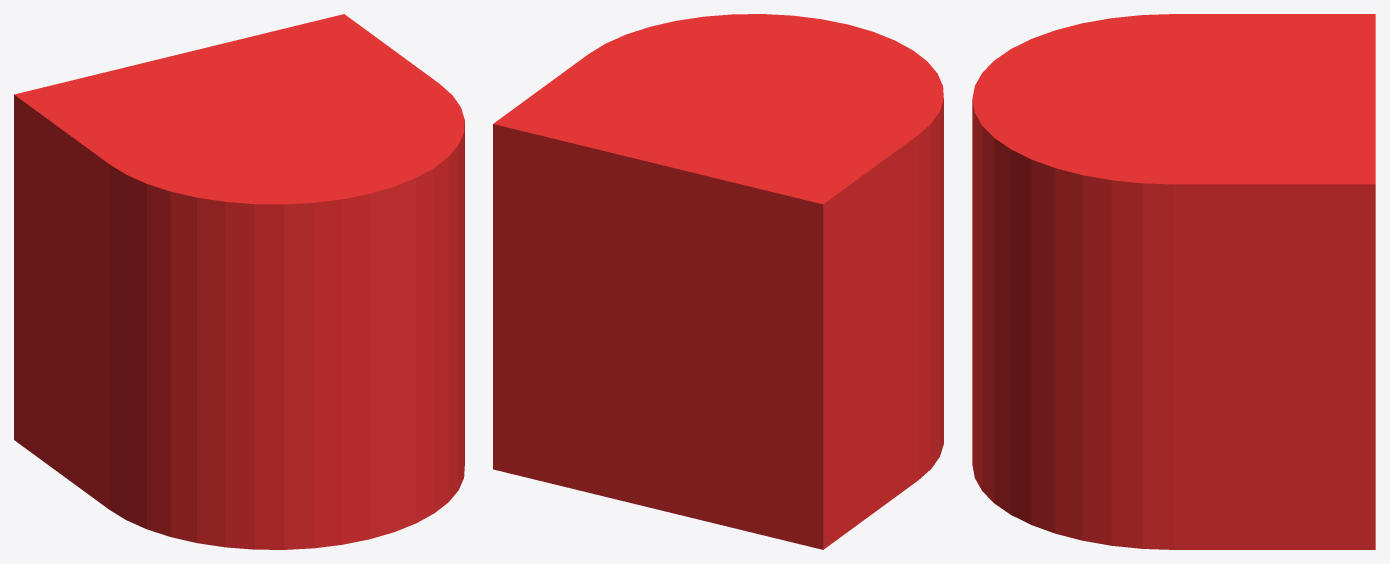
File: female_dtto.dae
3 views of the same model, side by side, from view 1: azimuth 30°, elevation 25°; view 2: azimuth 150°, elevation 25°; view 3: azimuth 270°, elevation 25° (orthographic). The views are drawn at different scales.
Parts seen in each view (by area): view 1: female; view 2: female; view 3: female.
Boxes of the visible parts, <box> form: female: <box>14,14,464,549</box>; female: <box>493,14,943,549</box>; female: <box>972,14,1375,549</box>.
Size of the model in its own units: 2.52 by 2.52 by 2.52.
